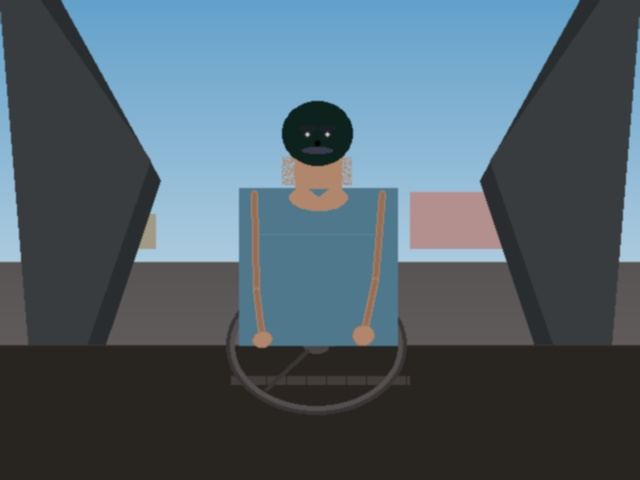normal_driving: (104, 185, 316, 345)
